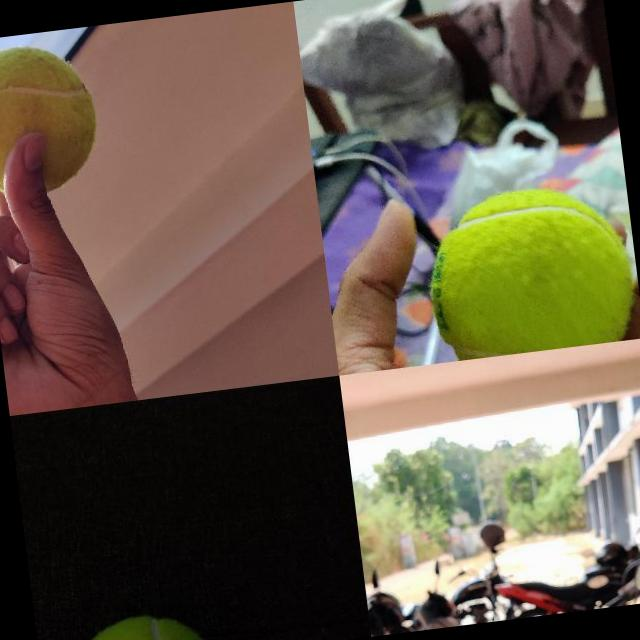Tennis Ball: (417, 176, 640, 362), (0, 38, 104, 201), (61, 606, 220, 640)
